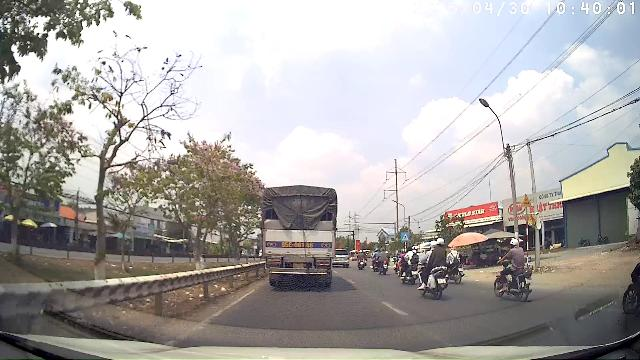423a-duong-nguoi-di-bo-sang-ngang-1: (400, 232, 410, 241)
